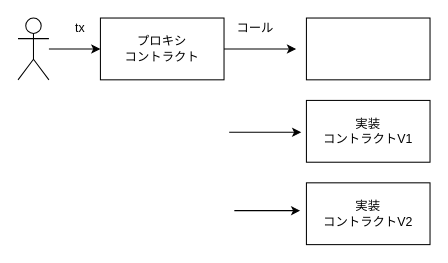
Some shapes in this 448 by 263 pixel diagram are drawn without their labels. The shapes that lost their labels are listed below. From the top down, each one's centre as x and y in pixels, then its label:
(33,48): Actor
(367,48): 実装 コントラクト
